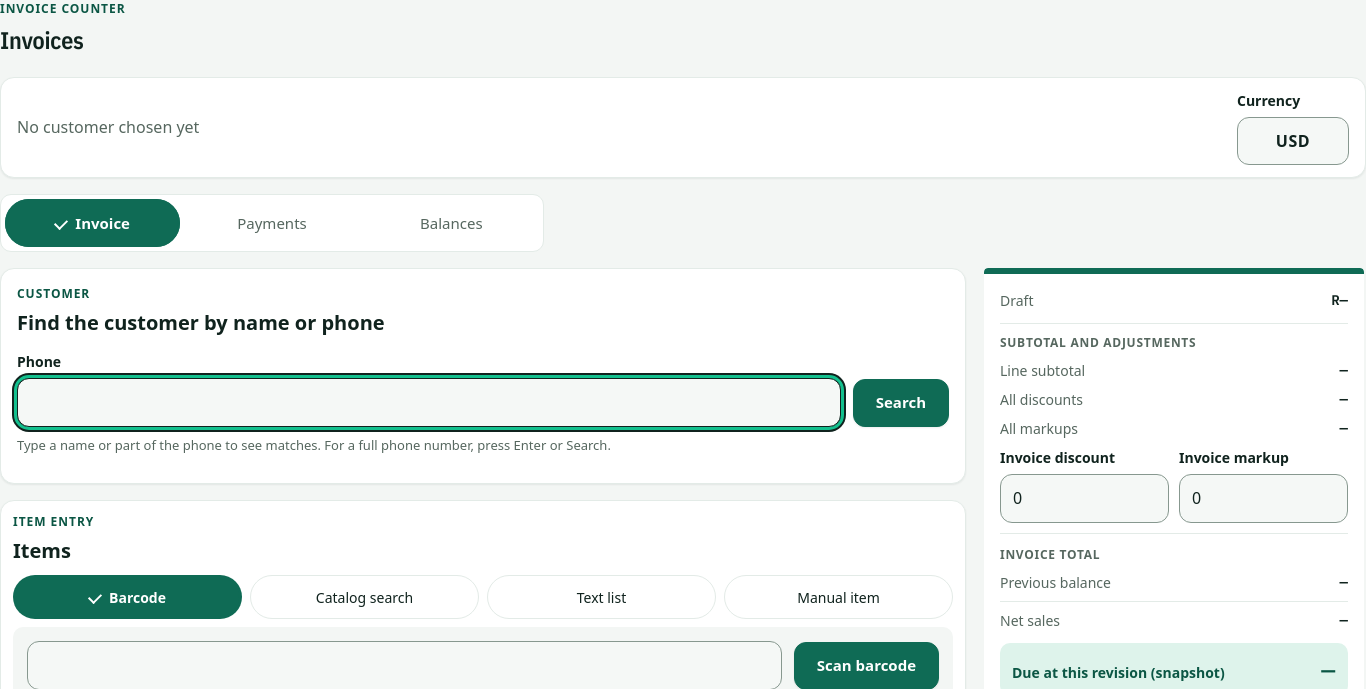
Test: a full phone and Enter still runs the exact-phone search, and no typed lookup overrides it
Type "+96170123456" into the field labelled "Phone" at (429, 402), box [17,378,841,427]
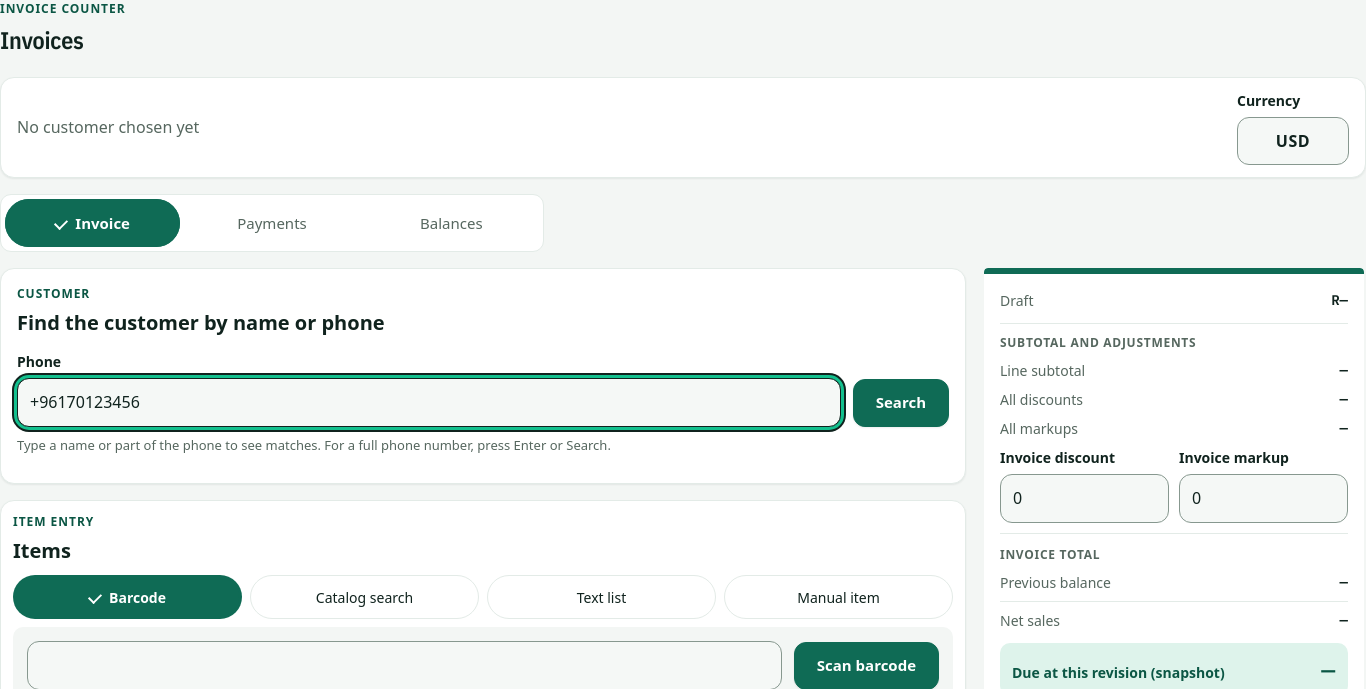
Submit the form labelled "Phone", box [17,351,949,427]
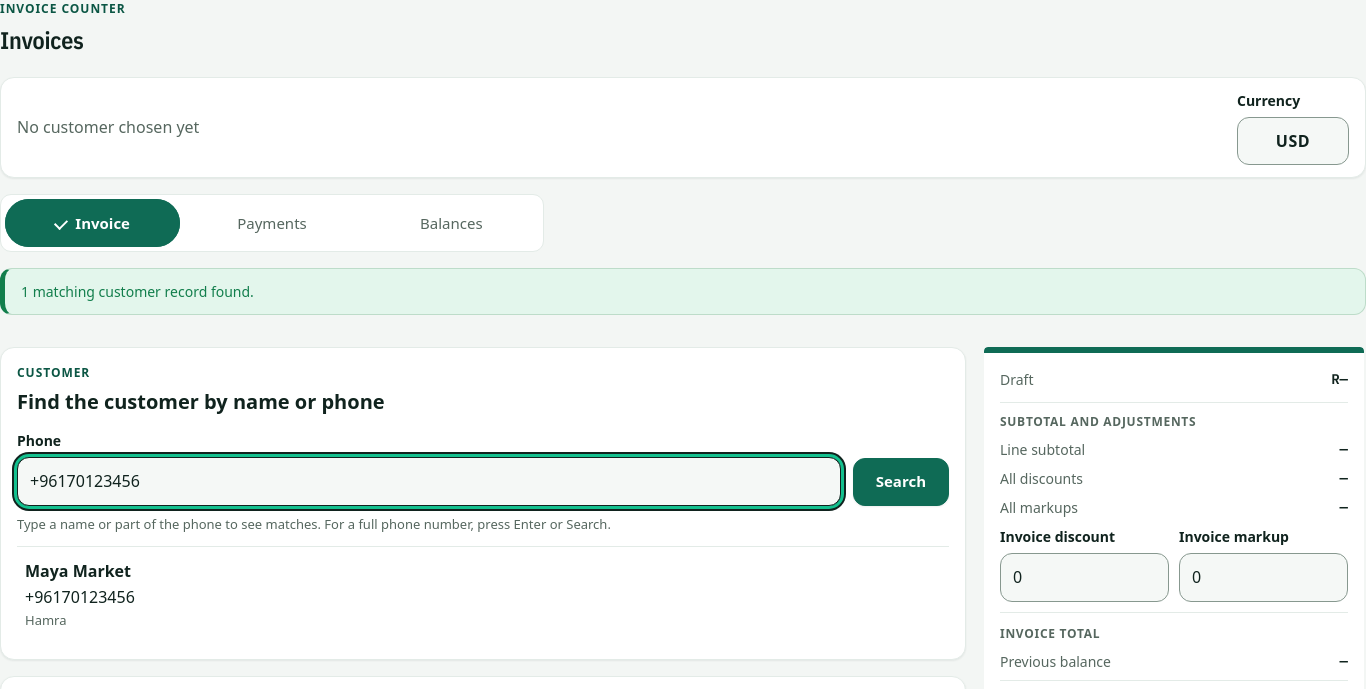
Expected: the button "Maya Market +96170123456 Hamra" does not show "Owes", [17,546,949,643]
Expected: the text "1 matching customer record found." is shown, [0,268,1365,315]
